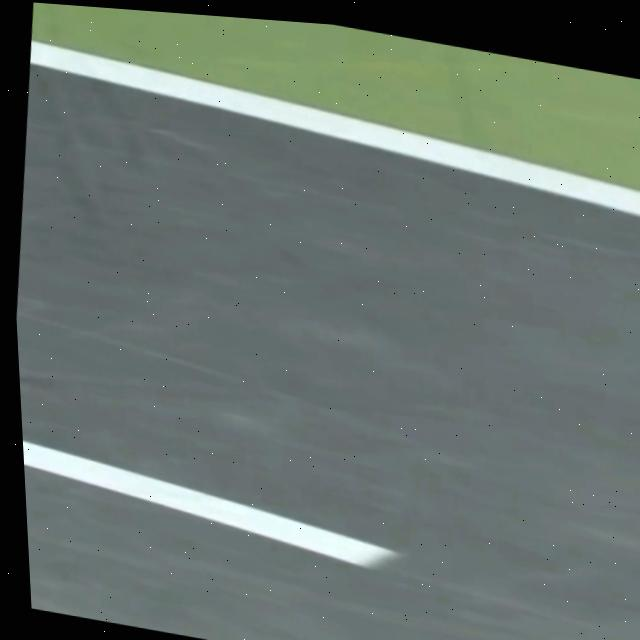center: (23, 442, 396, 567)
right: (29, 40, 640, 217)
